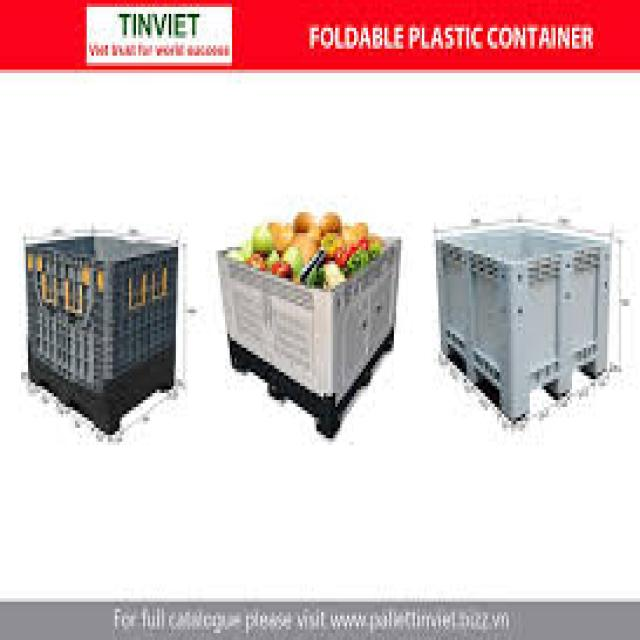basket: (207, 229, 403, 437), (438, 226, 612, 419), (26, 237, 178, 435)
